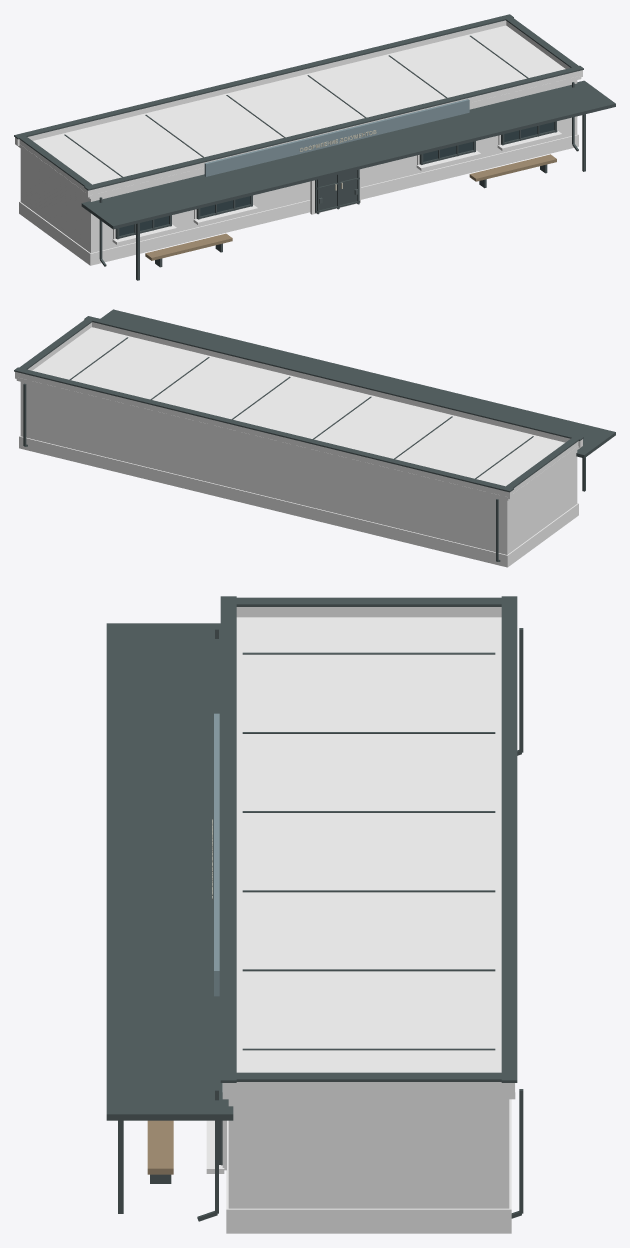
Rendered from frontier_customs_documents.glb.
3 views of the same model, one above another, from view 1: azimuth 30°, elevation 25°; view 2: azimuth 150°, elevation 25°; view 3: azimuth 270°, elevation 25° (orthographic). The views are drawn at different scales.
Visible parts, largest first — view 1: frontier_customs_documents; view 2: frontier_customs_documents; view 3: frontier_customs_documents.
Boxes of the visible parts, left/top/right/bottom form: frontier_customs_documents: left=14, top=14, right=615, bottom=280; frontier_customs_documents: left=14, top=309, right=615, bottom=567; frontier_customs_documents: left=106, top=596, right=523, bottom=1233.
Size of the model in its own units: 24.8 by 3.75 by 8.89.
